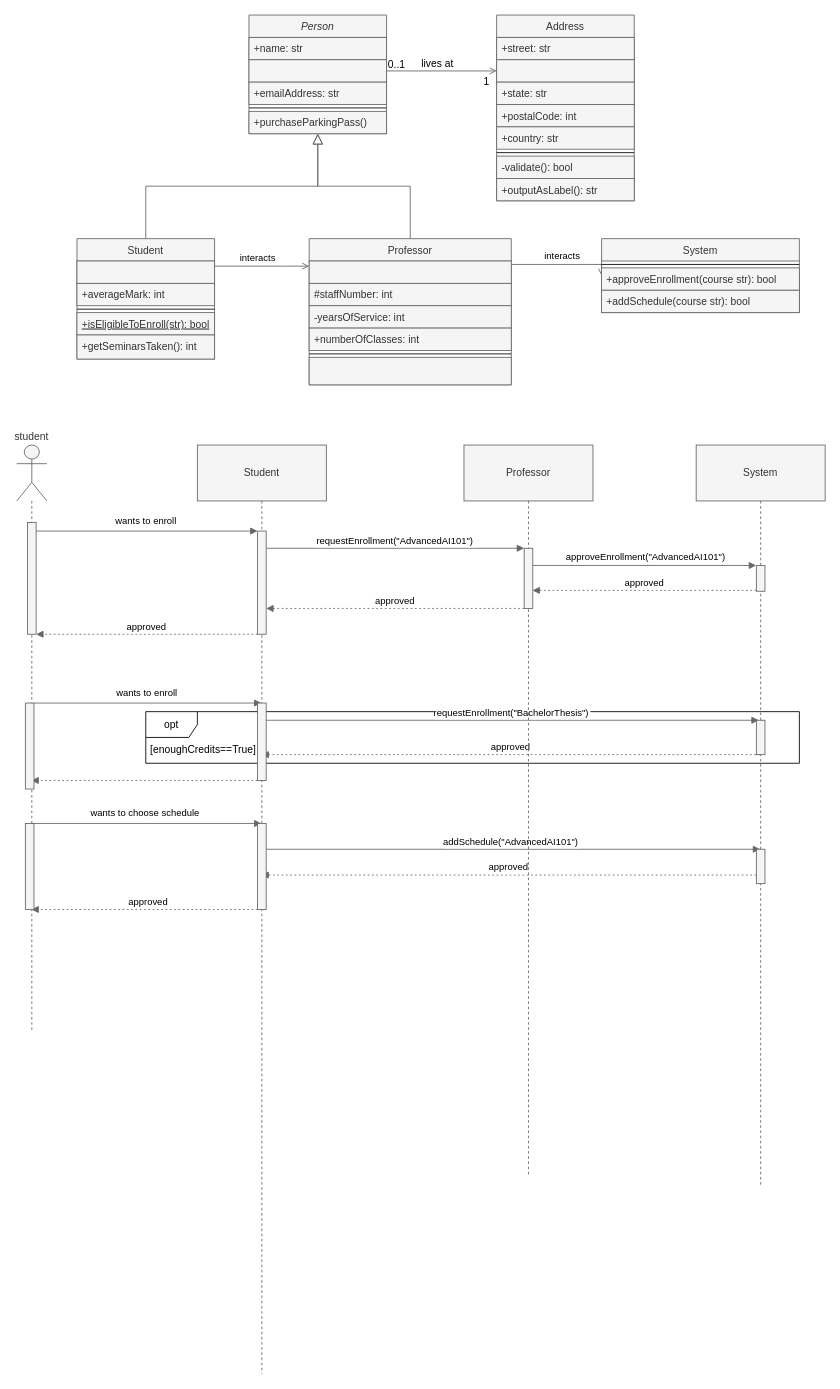
Some shapes in this 840 by 1389 pixel diagram are drawn without their labels. Each missing label, with the centre of its shape:
+city: str: the point at 565,70
+phoneNumber: str: the point at 317,70
+requestEnrollment(course str): bool: the point at 409,370
+studentNumber: int: the point at 145,271
/salary: int: the point at 409,271
